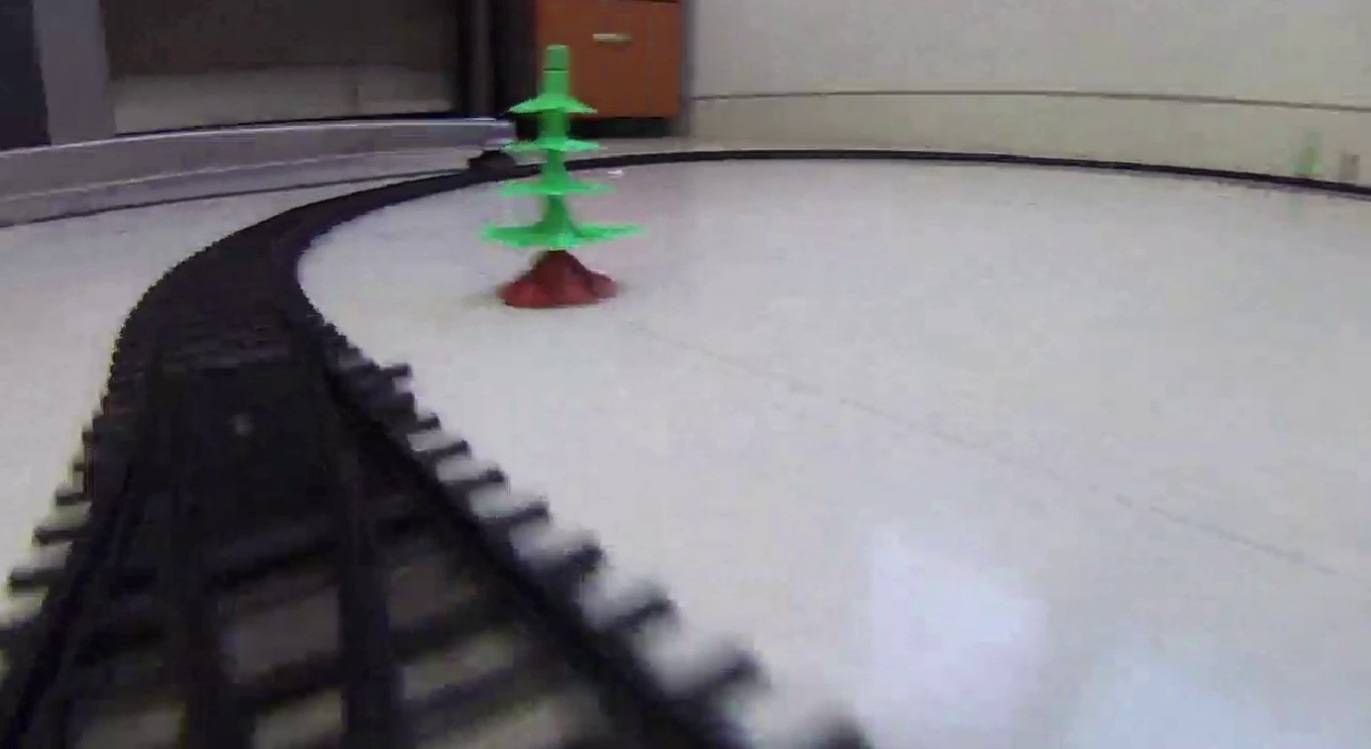tree: (478, 44, 637, 304)
